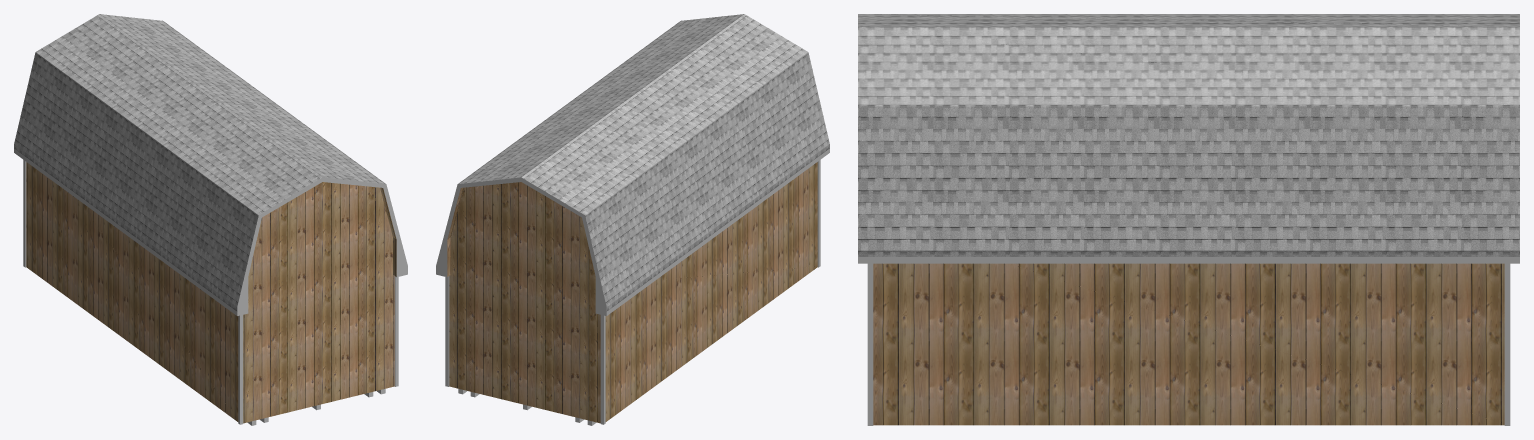
File: Two Story Gambrel_12x28.obj
3 renders of one model, left to right at view 1: azimuth 30°, elevation 25°; view 2: azimuth 150°, elevation 25°; view 3: azimuth 270°, elevation 25°, orthographic. The views are drawn at different scales.
Visible parts, largest first — view 1: Shed, Roof, Sides, Trim; view 2: Shed, Roof, Sides, Trim; view 3: Roof, Shed, Sides, Trim.
Boxes of the visible parts, <box> form: Shed: <box>26,162,396,423</box>; Roof: <box>14,14,385,311</box>; Sides: <box>14,148,407,315</box>; Trim: <box>23,160,398,424</box>; Shed: <box>447,162,817,423</box>; Roof: <box>458,14,829,311</box>; Sides: <box>436,148,829,315</box>; Trim: <box>445,160,820,424</box>; Roof: <box>858,14,1519,256</box>; Shed: <box>873,263,1504,425</box>; Sides: <box>858,257,1519,263</box>; Trim: <box>867,263,1510,425</box>.
Bounding box in the file's own units: 3.9 × 5.14 × 8.84.
